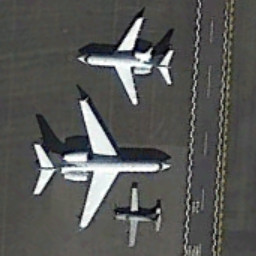Airplane: (23, 93, 174, 233), (71, 8, 183, 115), (107, 181, 173, 251)
